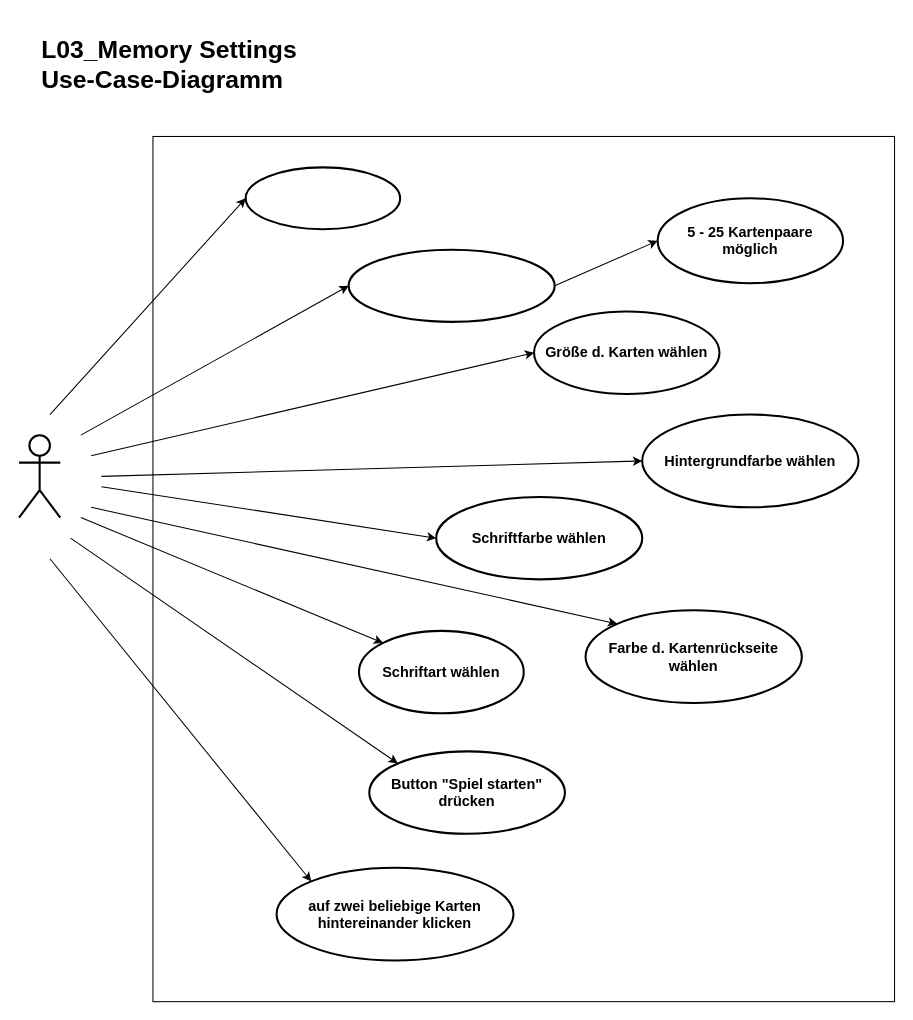
The diagram is 913 pixels wide and 1020 high, and some of its shapes have lost their labels. Each missing label, with the centre of its shape:
"Anzahl d. Kartenpaare wählen" belongs at (451,285).
"Start" belongs at (322,198).
"User" belongs at (39,476).
